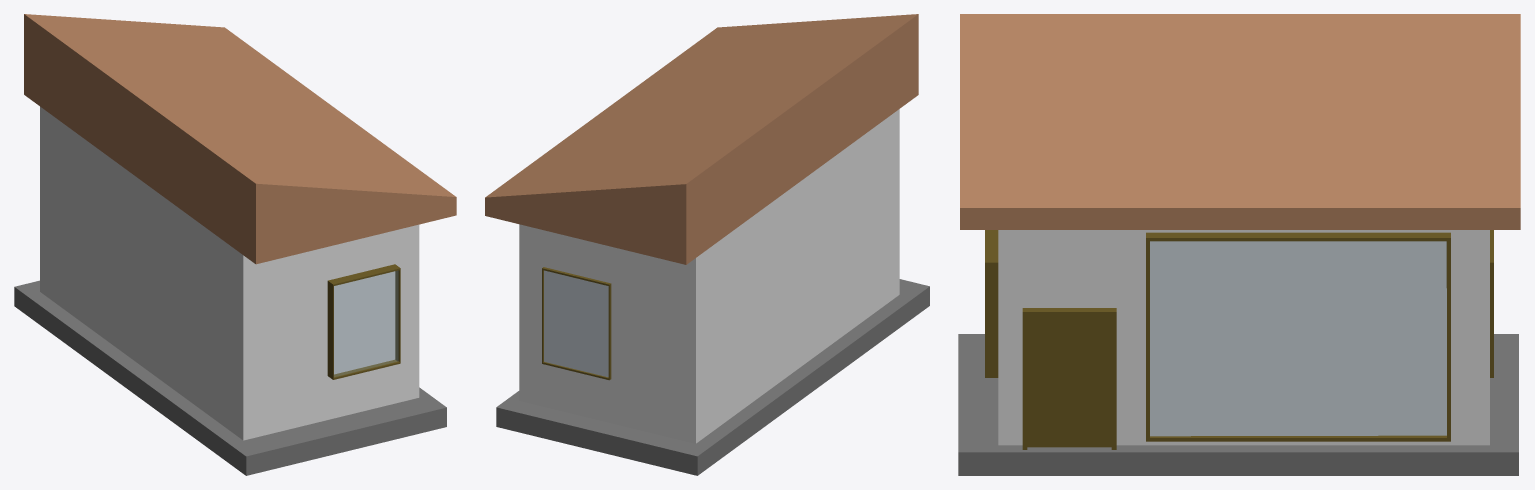
Rendered from shop4.fbx.
The picture shows the model from 3 angles, left to right: view 1: azimuth 30°, elevation 25°; view 2: azimuth 150°, elevation 25°; view 3: azimuth 270°, elevation 25°; orthographic projection. The views are drawn at different scales.
Visible parts, largest first — view 1: shop3; view 2: shop3; view 3: shop3.
Boxes of the visible parts, x1,y1,x2,y2 form: shop3: (14, 14, 456, 475); shop3: (485, 14, 929, 475); shop3: (958, 14, 1520, 475).
Size of the model in its own units: 2.1 by 2.75 by 4.01.
